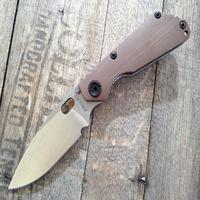knife: (5, 4, 185, 192)
